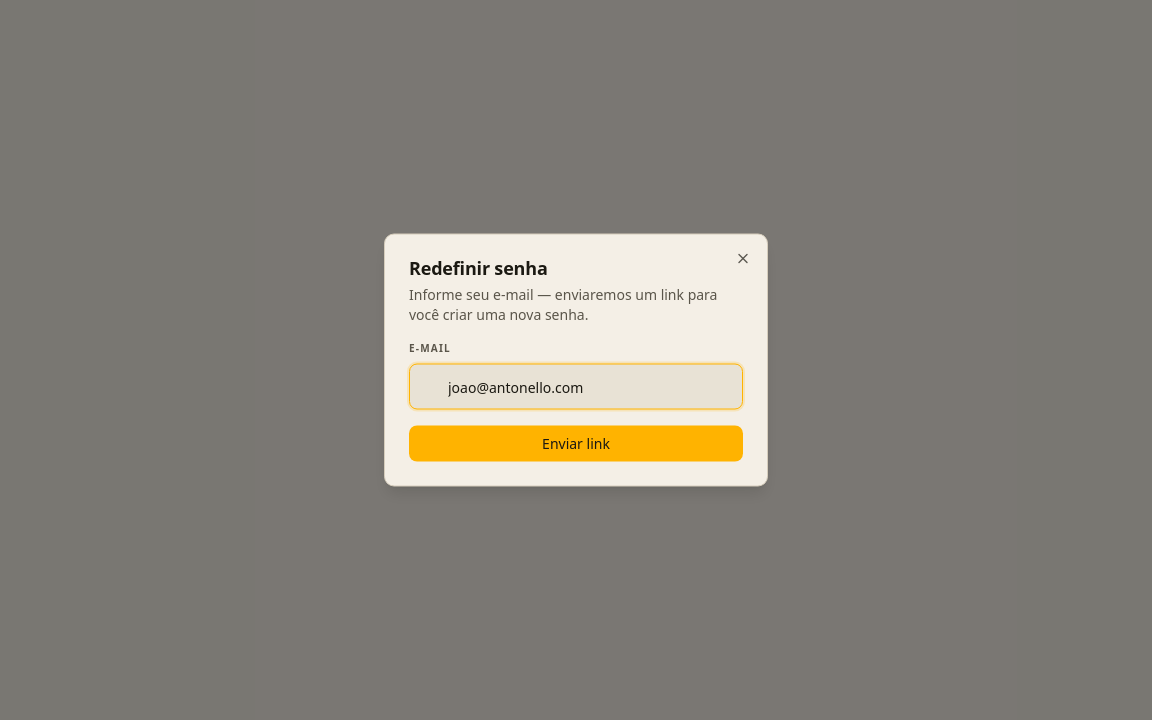
Test: EsqueciSenhaDialog › mostra erro inline quando a chamada falha
Click the button "Enviar link".
click(576, 444)  # box left=409, top=426, right=743, bottom=462
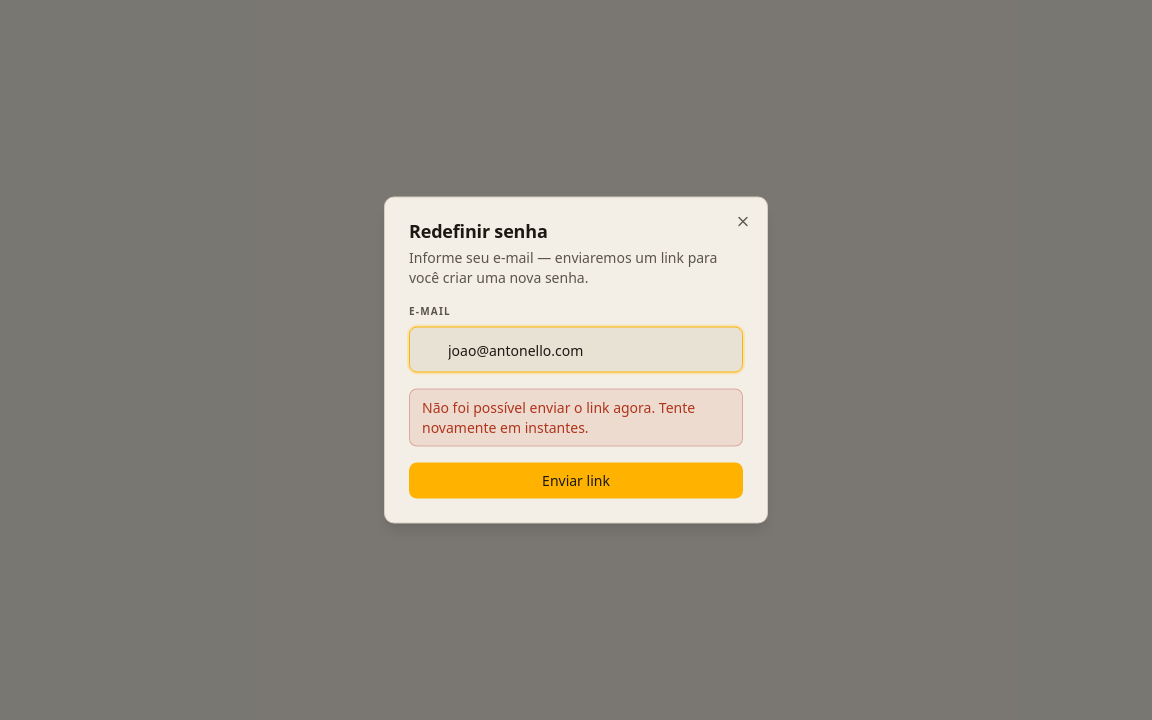
Expected: the text "Não foi possível enviar o link agora. Tente novamente em instantes." is shown, left=409, top=388, right=743, bottom=446
